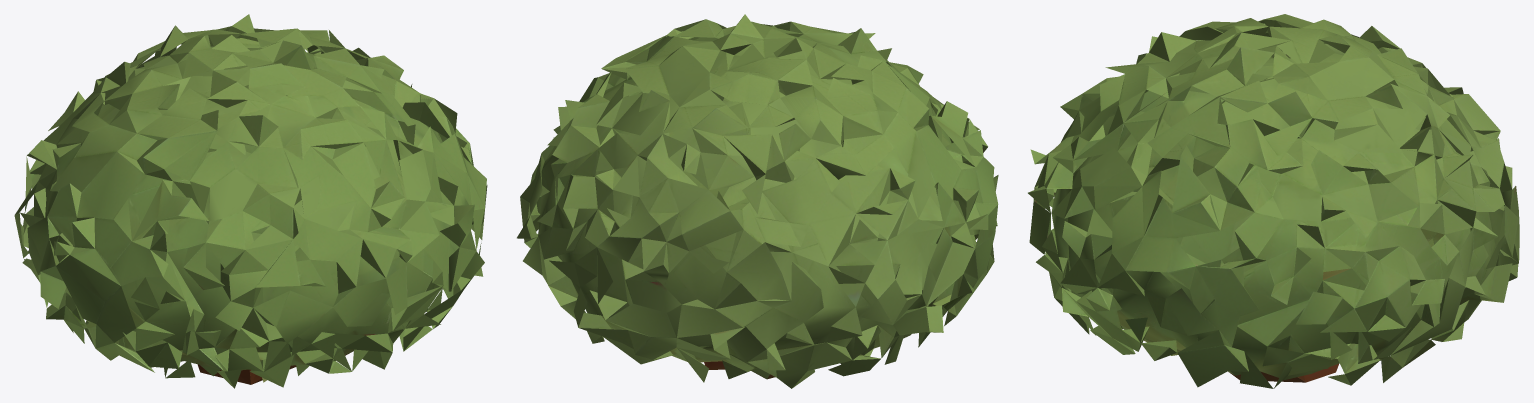
File: berry-bush-pink.glb
3 views of the same model, side by side, from view 1: azimuth 30°, elevation 25°; view 2: azimuth 150°, elevation 25°; view 3: azimuth 270°, elevation 25° (orthographic). The views are drawn at different scales.
Parts seen in each view (by area): view 1: mesh_node; view 2: mesh_node; view 3: mesh_node.
Part boxes in pixels (x1=…): mesh_node: x1=14, y1=14, x2=487, y2=388; mesh_node: x1=517, y1=14, x2=998, y2=388; mesh_node: x1=1028, y1=14, x2=1519, y2=388.
Size of the model in its own units: 1.88 by 1.36 by 1.84.
Materials: 1 (1 with a texture image).
